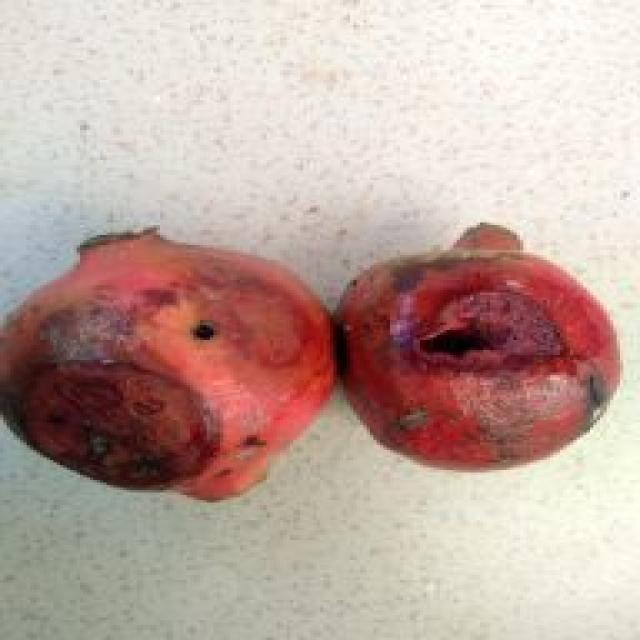Rotten: (5, 204, 333, 507), (334, 220, 634, 473)
